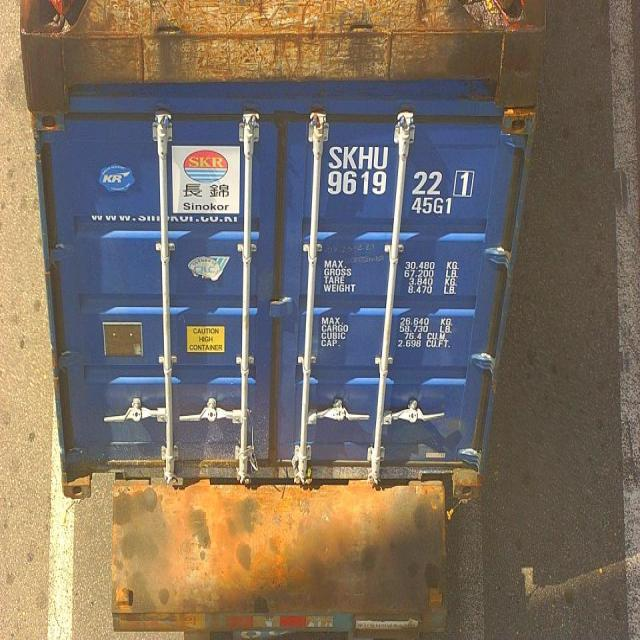ISO: (412, 197, 450, 216)
container_number: (327, 145, 473, 200)
